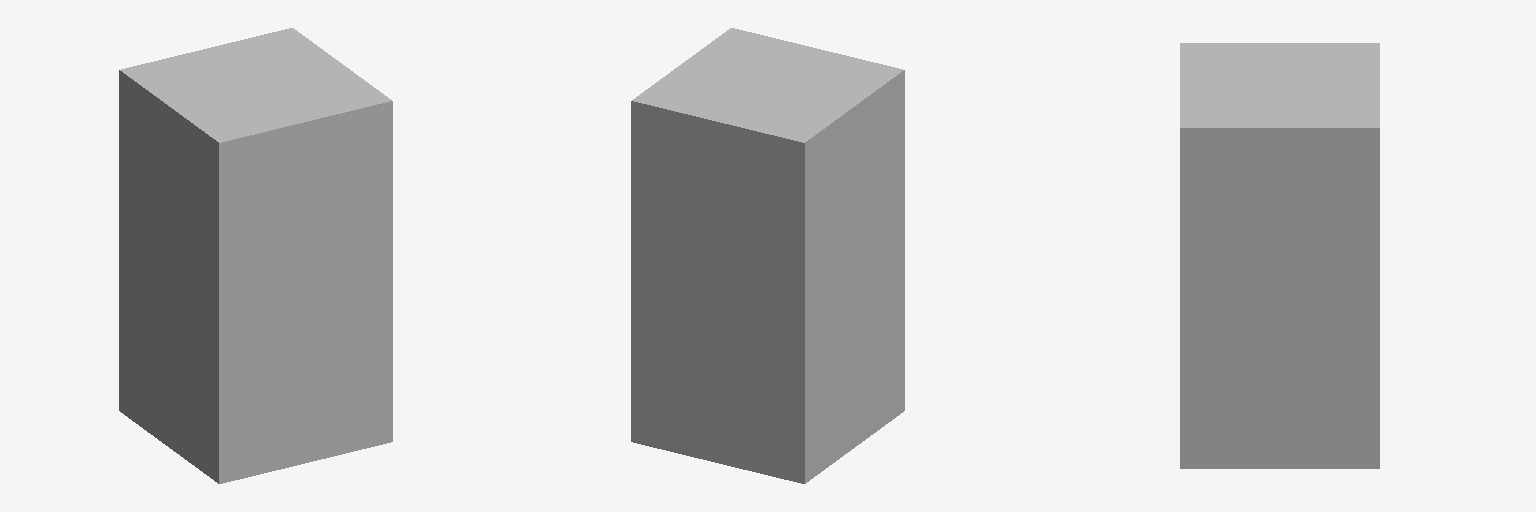
File: BuildingV1.obj
The picture shows the model from 3 angles: view 1: azimuth 30°, elevation 25°; view 2: azimuth 150°, elevation 25°; view 3: azimuth 270°, elevation 25°; orthographic projection.
Visible parts, largest first — view 1: pPlane16; view 2: pPlane16; view 3: pPlane16.
Part boxes in pixels (x1,y1,x2,y2): pPlane16: (119, 28, 392, 483); pPlane16: (631, 28, 904, 483); pPlane16: (1180, 43, 1379, 468).
Size of the model in its own units: 3.06 by 5.65 by 3.06.